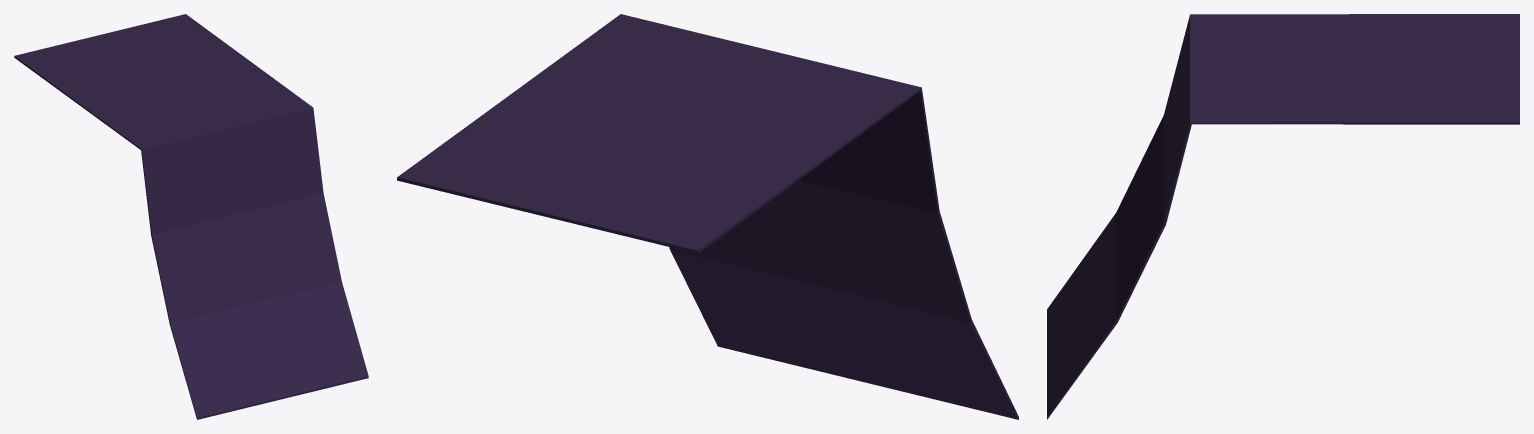
Rendered from toit petit.FBX.
3 views of the same model, side by side, from view 1: azimuth 30°, elevation 25°; view 2: azimuth 150°, elevation 25°; view 3: azimuth 270°, elevation 25° (orthographic). The views are drawn at different scales.
Parts seen in each view (by area): view 1: toit small; view 2: toit small; view 3: toit small.
Part boxes in pixels (box(x1,y1,x2,y2)): toit small: box(14, 14, 368, 419); toit small: box(397, 14, 1018, 419); toit small: box(1047, 14, 1519, 419).
Bounding box in the file's own units: 74.66 × 95.75 × 138.
1 material, 1 textured.
